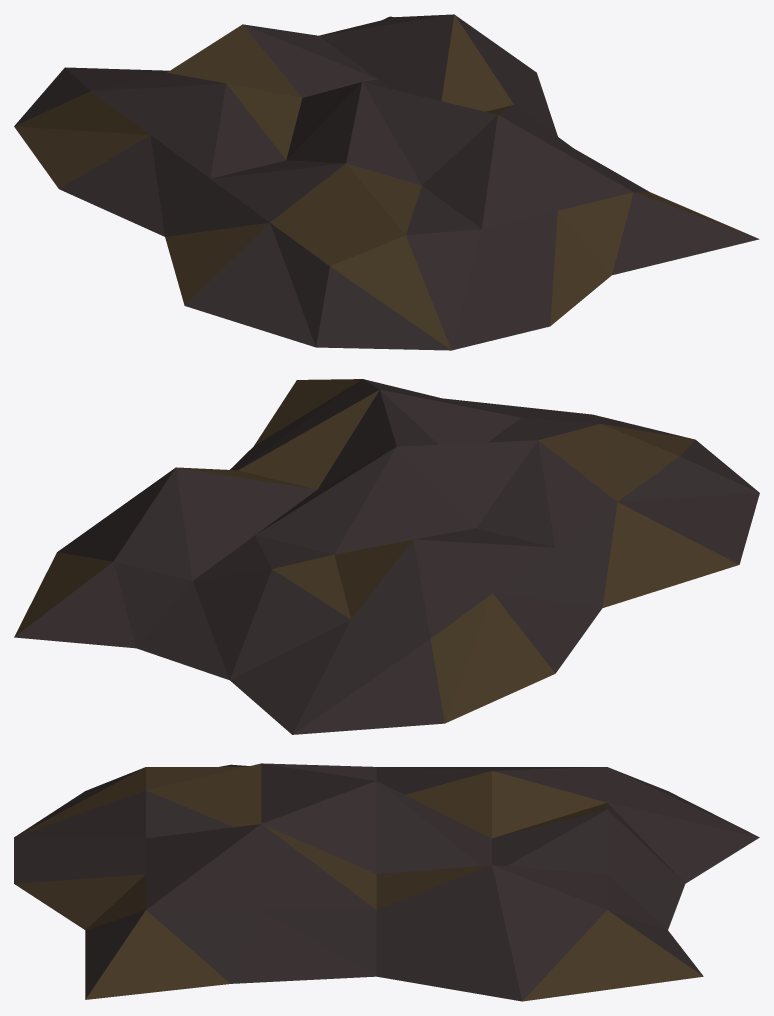
Rendered from dirt02.fbx.
The picture shows the model from 3 angles, top to bottom: view 1: azimuth 30°, elevation 25°; view 2: azimuth 150°, elevation 25°; view 3: azimuth 270°, elevation 25°; orthographic projection. The views are drawn at different scales.
Parts seen in each view (by area): view 1: lowPolyIceAssets:pCube10; view 2: lowPolyIceAssets:pCube10; view 3: lowPolyIceAssets:pCube10.
Part boxes in pixels (<box>): lowPolyIceAssets:pCube10: <box>14,14,759,350</box>; lowPolyIceAssets:pCube10: <box>14,379,759,734</box>; lowPolyIceAssets:pCube10: <box>14,763,759,1001</box>.
Size of the model in its own units: 0.0298 by 0.00604 by 0.0396.
